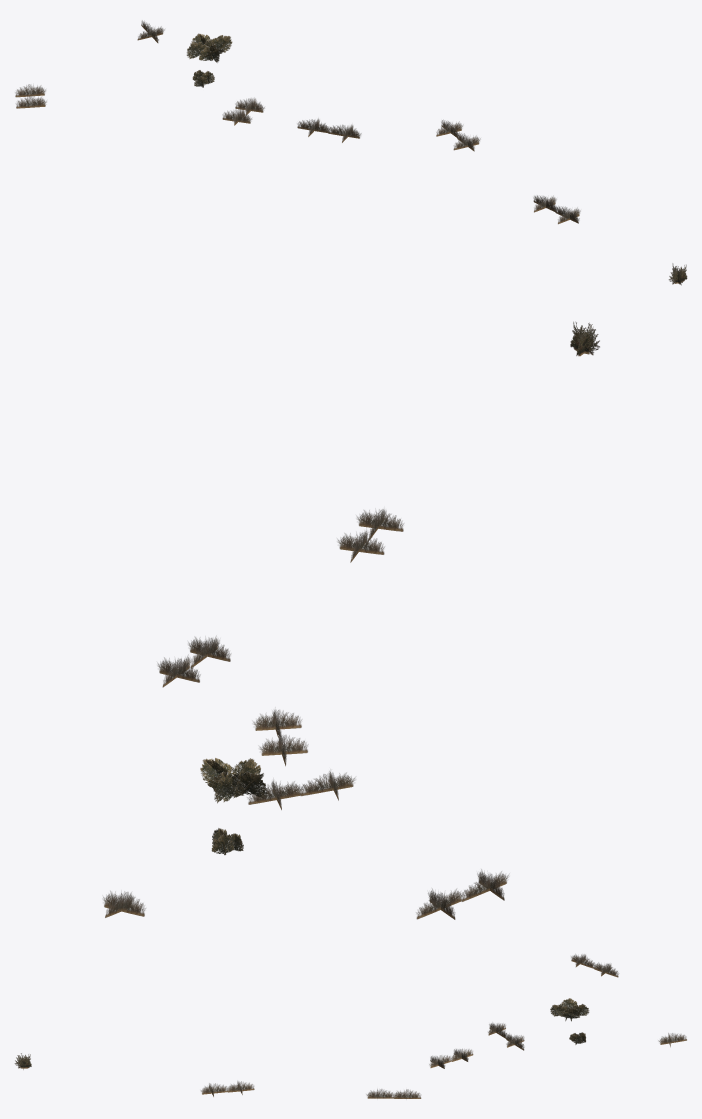
File: 0804worlddeserttransparent_worlddeserttransparentmaterial_0_lev.glb
3 views of the same model, one above another, from view 1: azimuth 30°, elevation 25°; view 2: azimuth 150°, elevation 25°; view 3: azimuth 270°, elevation 25° (orthographic). The views are drawn at different scales.
Visible parts, largest first — view 1: 0804worlddeserttransparent_worlddeserttransparentmaterial_0_; view 2: 0804worlddeserttransparent_worlddeserttransparentmaterial_0_; view 3: 0804worlddeserttransparent_worlddeserttransparentmaterial_0_.
Boxes of the visible parts, bbox=[...] form: 0804worlddeserttransparent_worlddeserttransparentmaterial_0_: bbox=[15, 20, 687, 285]; 0804worlddeserttransparent_worlddeserttransparentmaterial_0_: bbox=[102, 321, 599, 919]; 0804worlddeserttransparent_worlddeserttransparentmaterial_0_: bbox=[14, 954, 686, 1099].
Size of the model in its own units: 13.68 by 2.26 by 30.13.
Materials: 1 (1 with a texture image).
